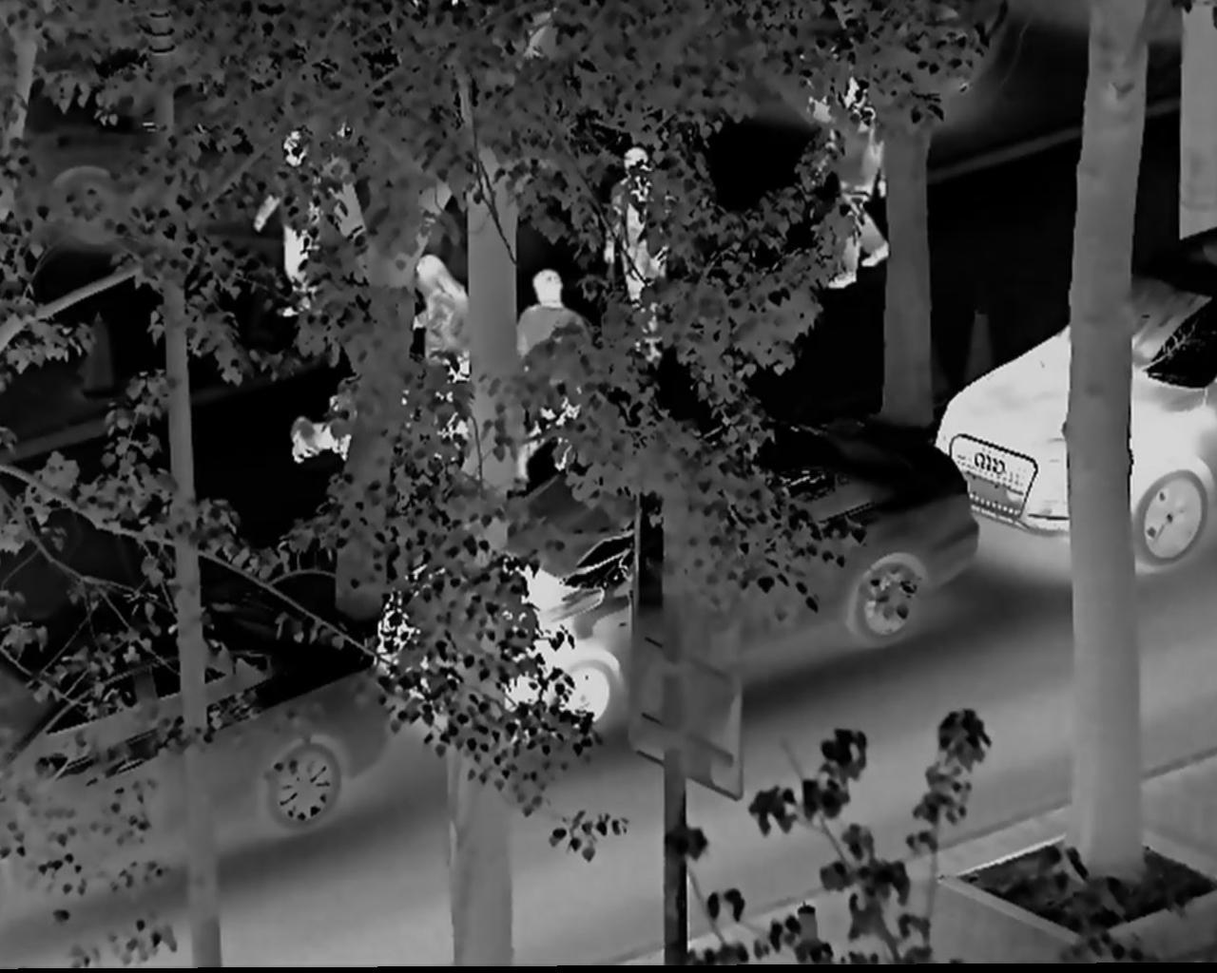person: (807, 58, 892, 303), (597, 143, 687, 370), (253, 115, 340, 330), (508, 257, 595, 454), (405, 246, 475, 428)
